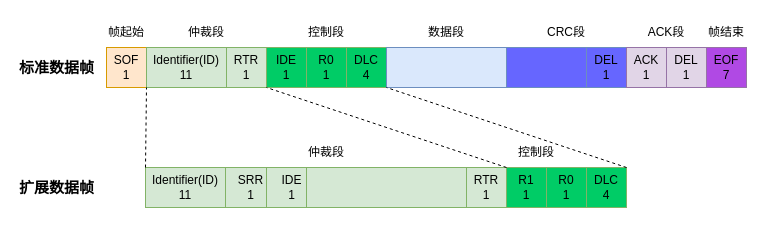
Some shapes in this 773 by 225 pixel diagram are drawn without their labels. The shapes that lost their labels are listed below. From the top down, each one's box as (x1, y1, x2, y2) in pixels, then its label:
(386, 46, 506, 88): Data Field 0-64
(506, 46, 586, 88): CRC 15
(306, 166, 466, 208): Extended Identifier 18
